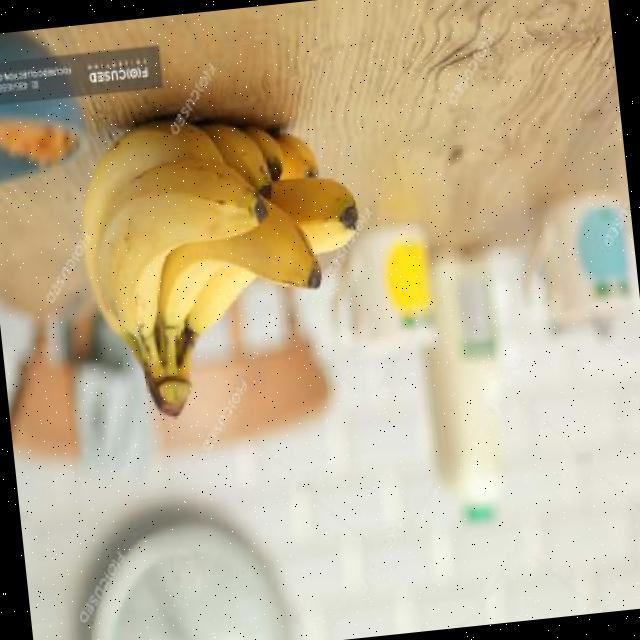banana: (156, 196, 322, 335), (114, 186, 252, 327)
